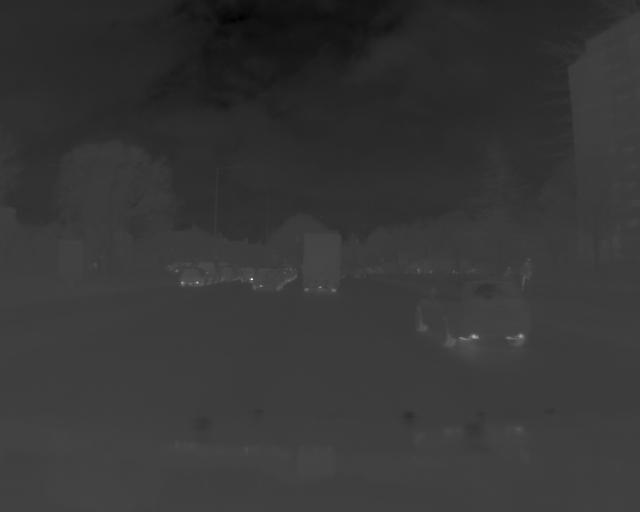car: (412, 277, 528, 352), (301, 230, 343, 295), (254, 269, 286, 293), (180, 267, 211, 288)
